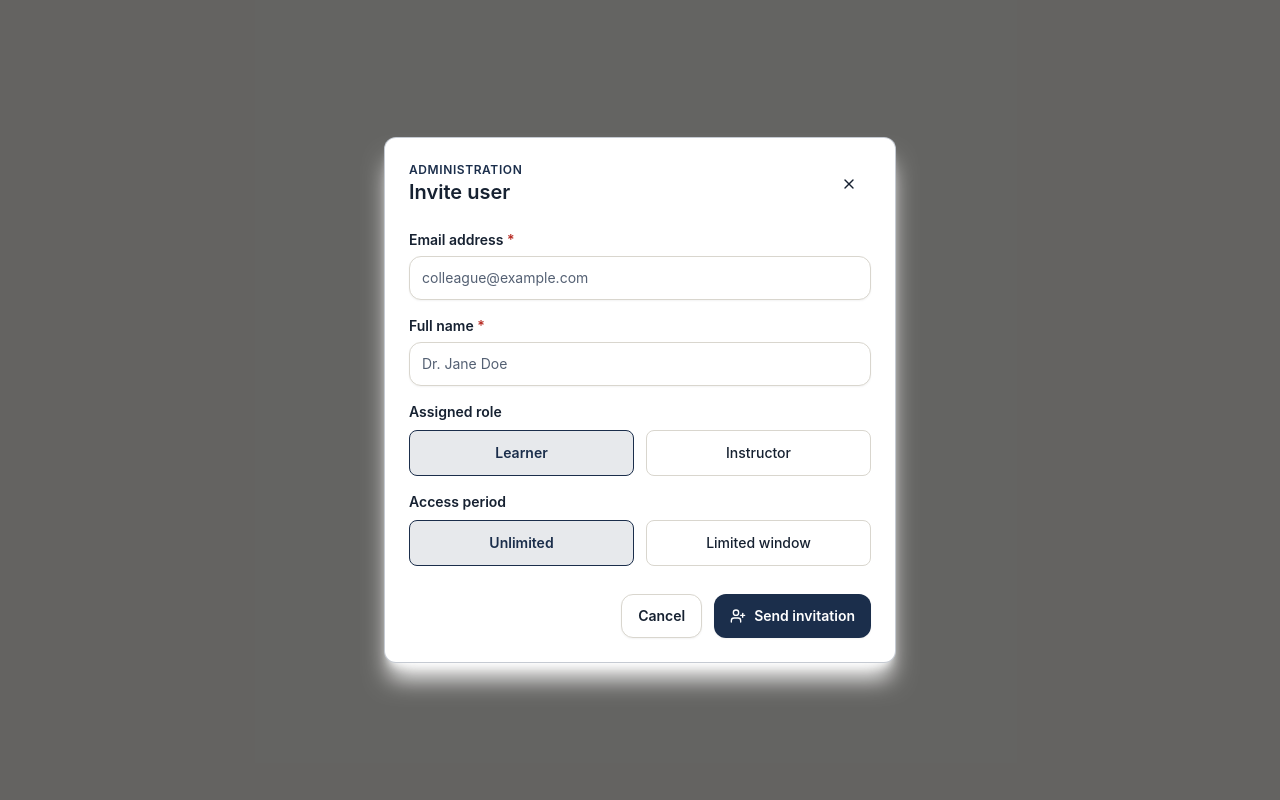
Scenario: InviteUserDialog › validates missing expiry date in limited mode
The width and height of the screenshot is (1280, 800).
Step 1. Type "learner@test.com" into the field labelled "Email address *" → coordinates (640, 278), box left=409, top=256, right=871, bottom=300
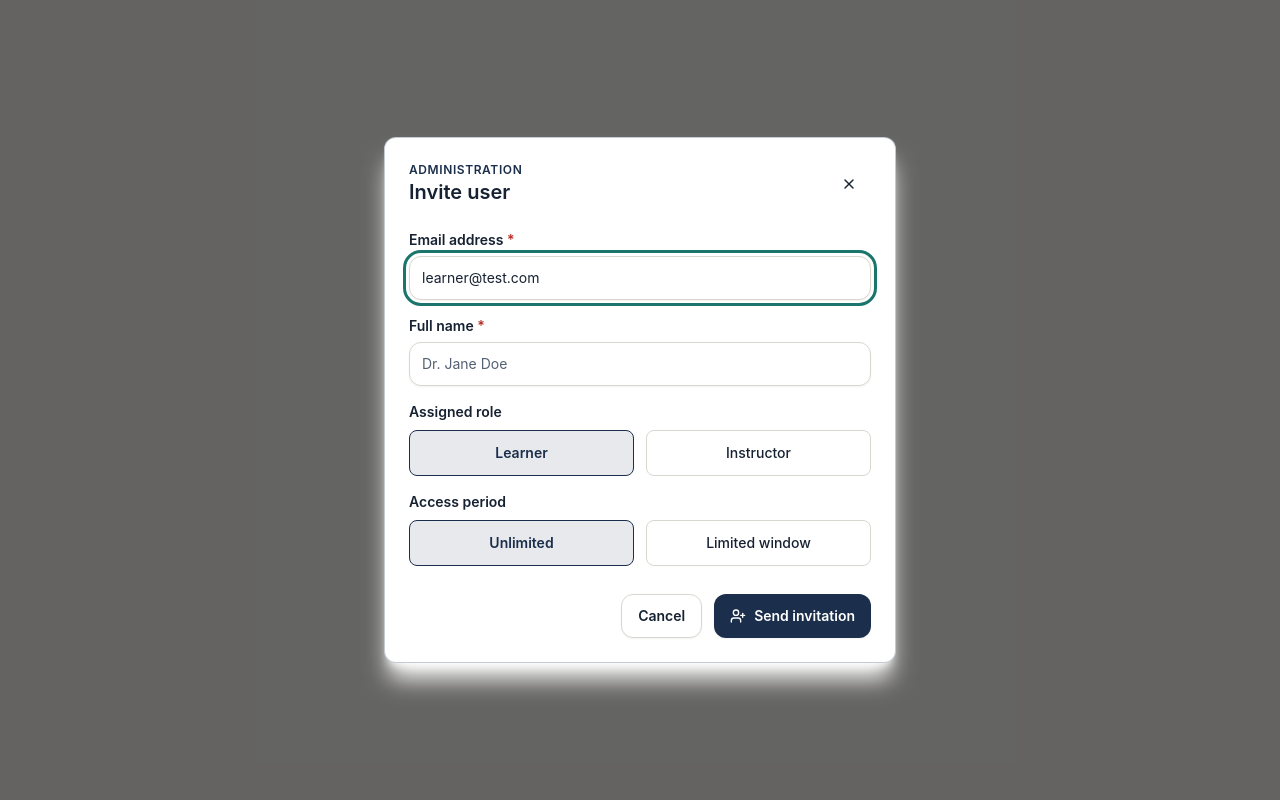
Step 2. Type "Test Learner" into the field labelled "Full name *" → coordinates (640, 364), box left=409, top=342, right=871, bottom=386
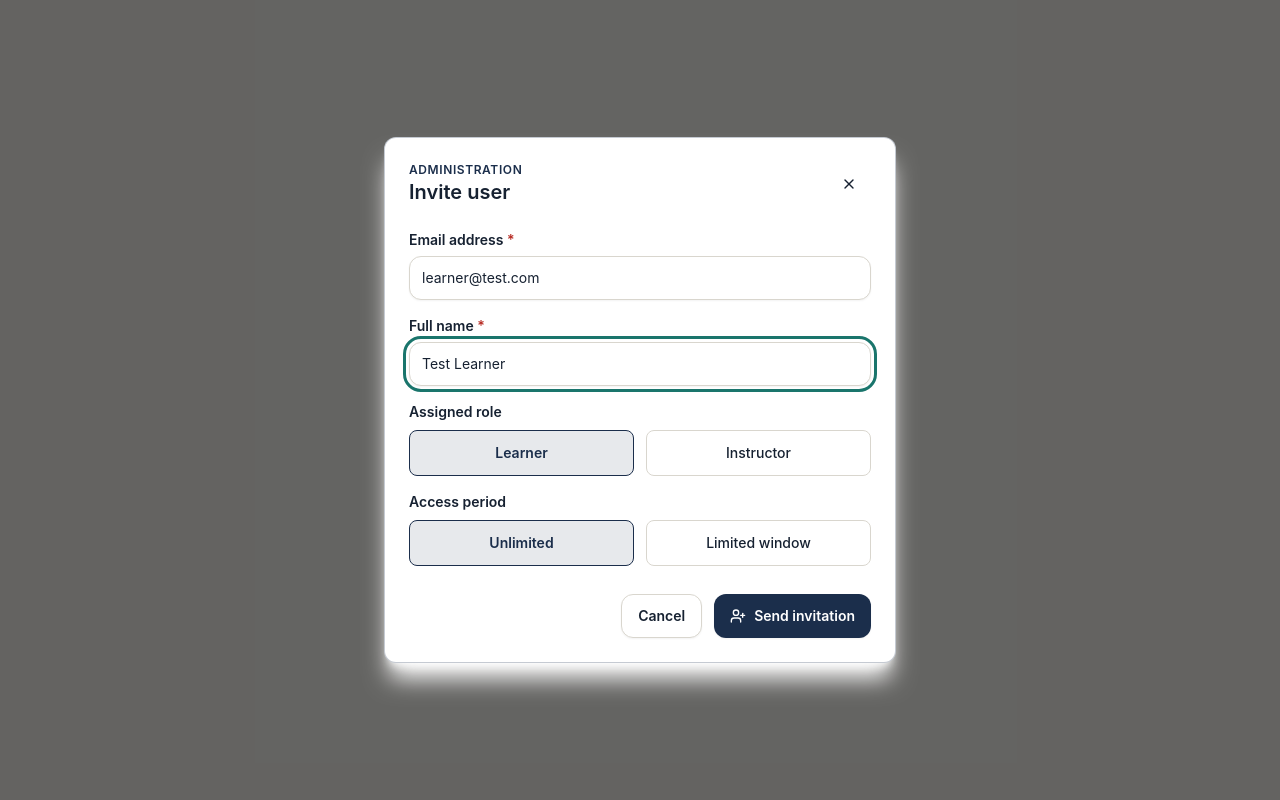
Step 3. Click the radio button labelled "Limited window" → coordinates (758, 543), box left=646, top=520, right=871, bottom=566
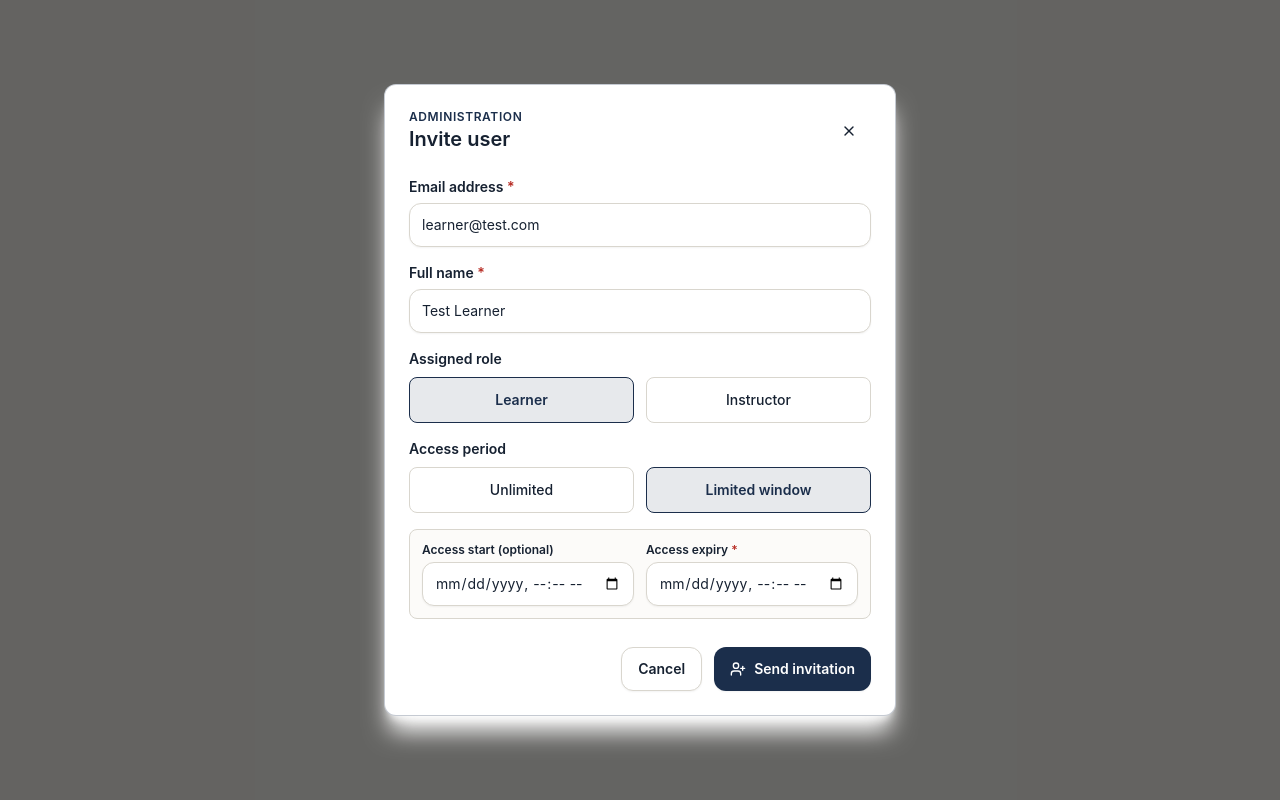
Step 4. Click the button "Send invitation" → coordinates (793, 669), box left=714, top=647, right=871, bottom=691
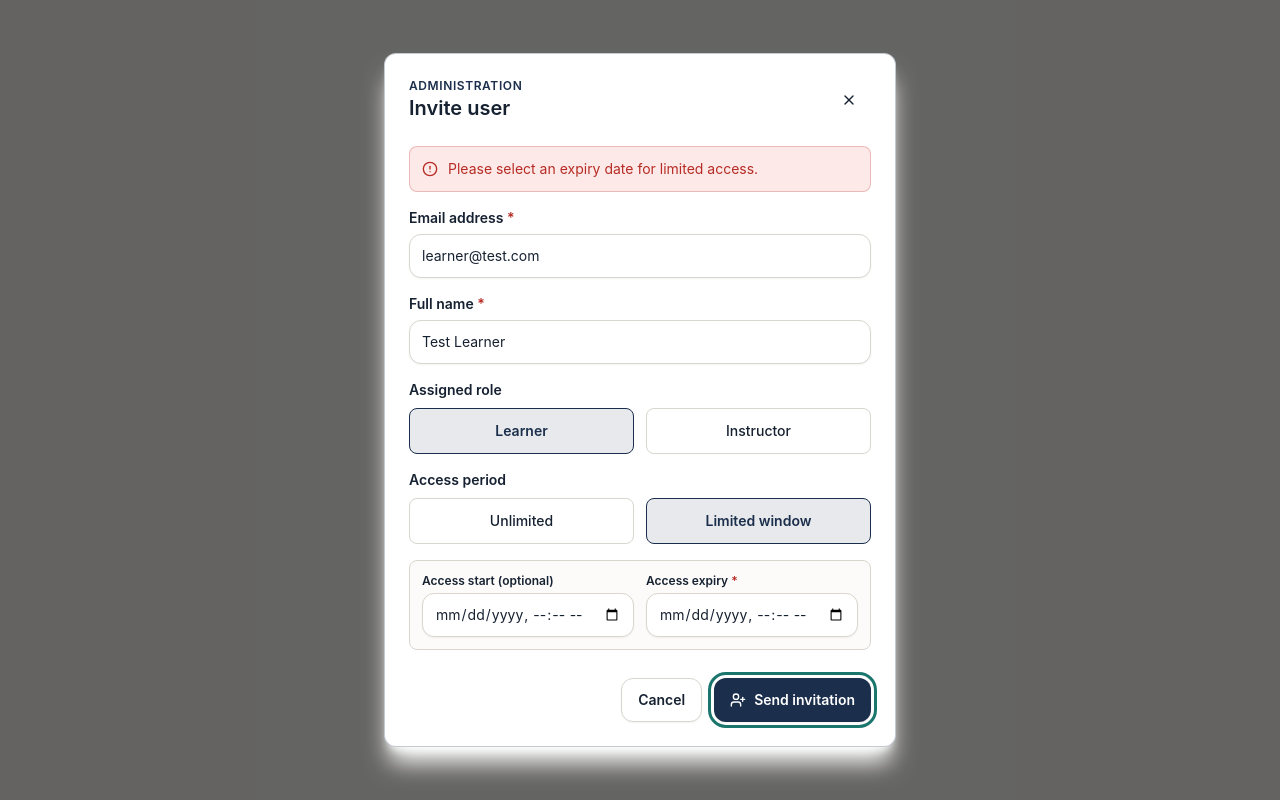
Expected: the text "Please select an expiry date for limited access." is shown, left=448, top=159, right=758, bottom=179
